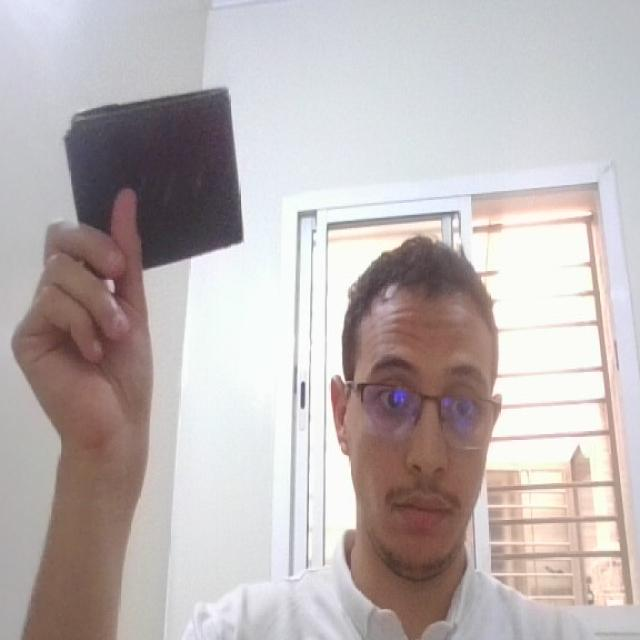wallet: (56, 80, 261, 275)
